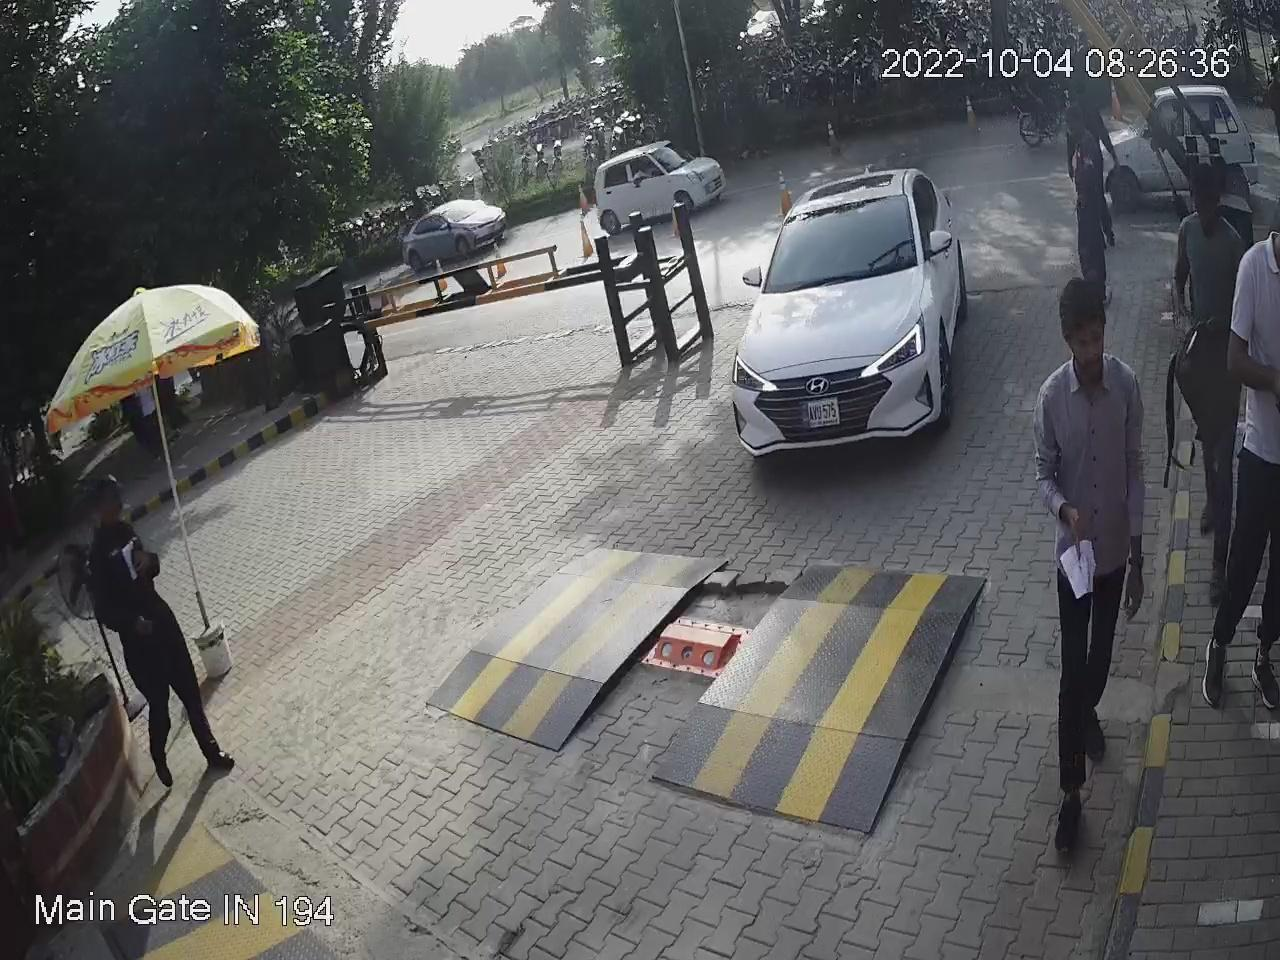windshield: (760, 195, 923, 297)
